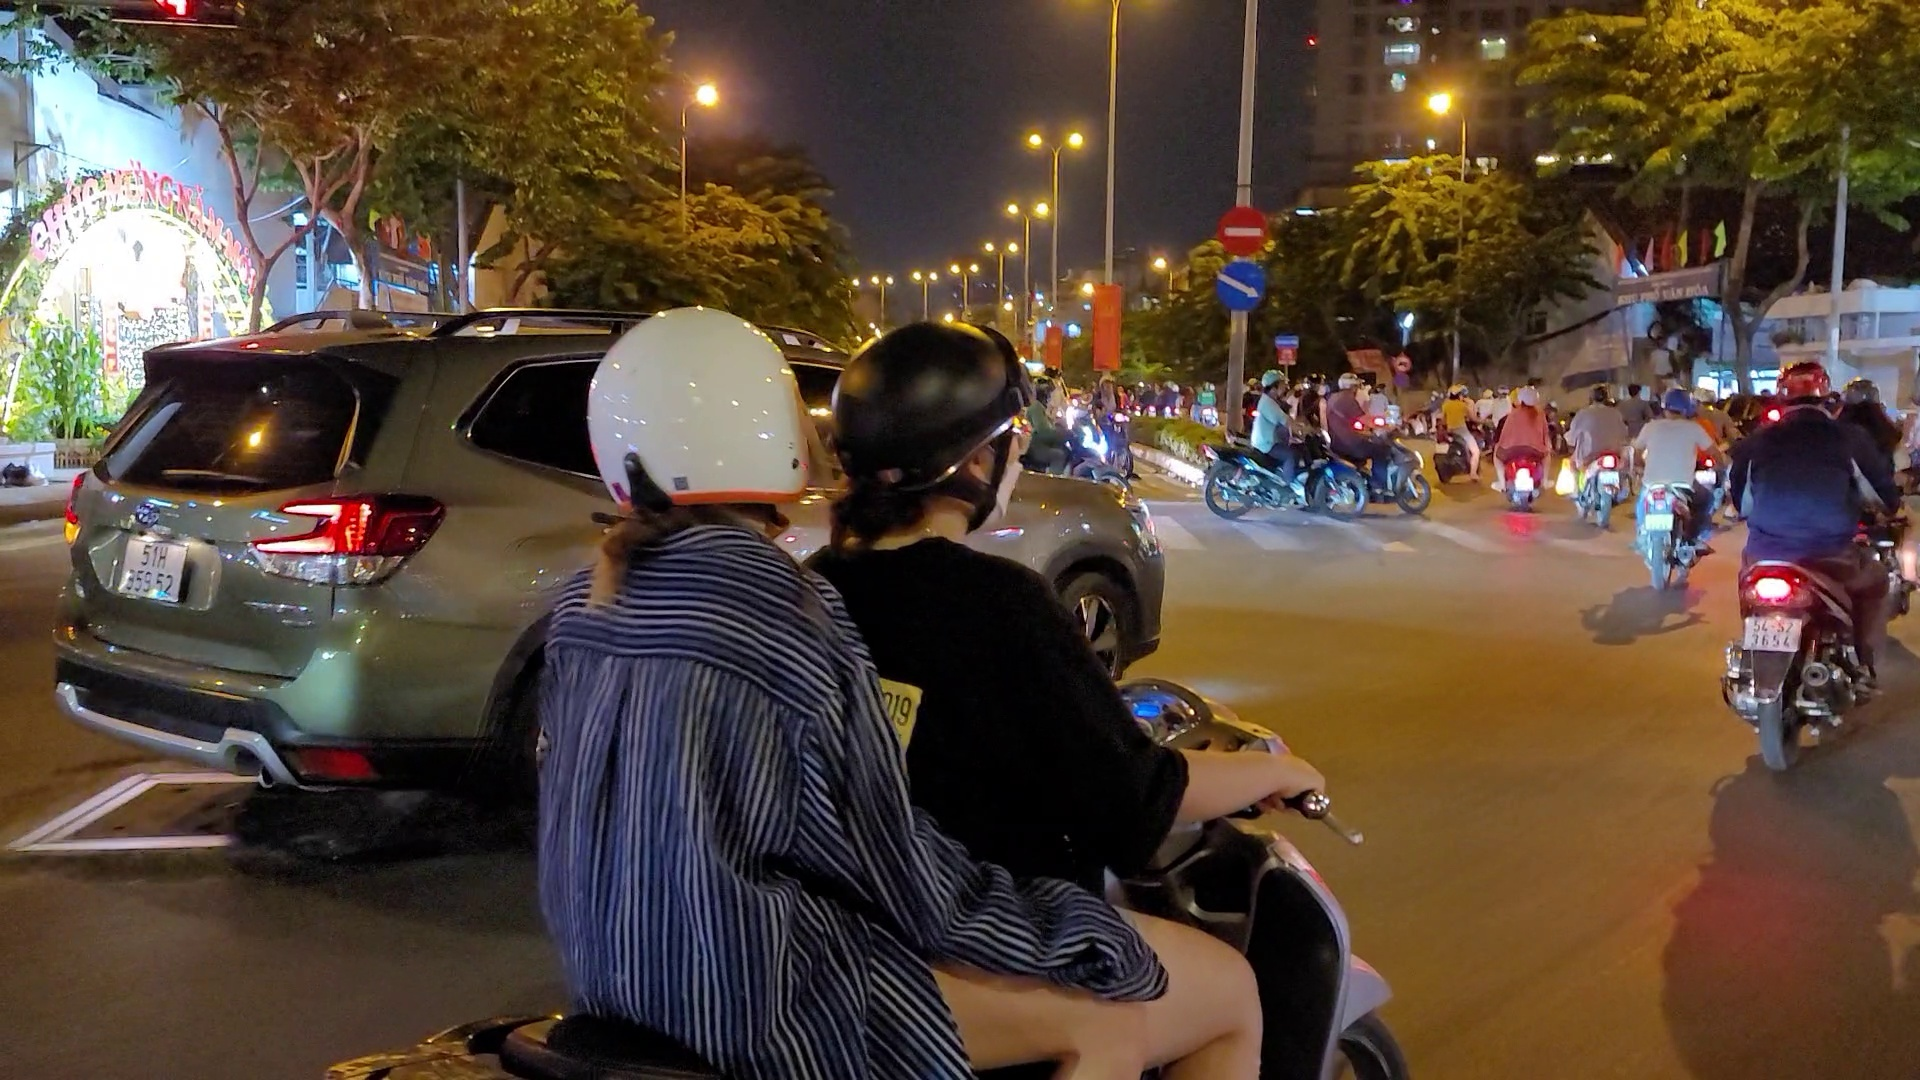Cam di nguoc chieu: (1211, 199, 1270, 258)
Huong di phai re phai: (1215, 262, 1265, 313)
